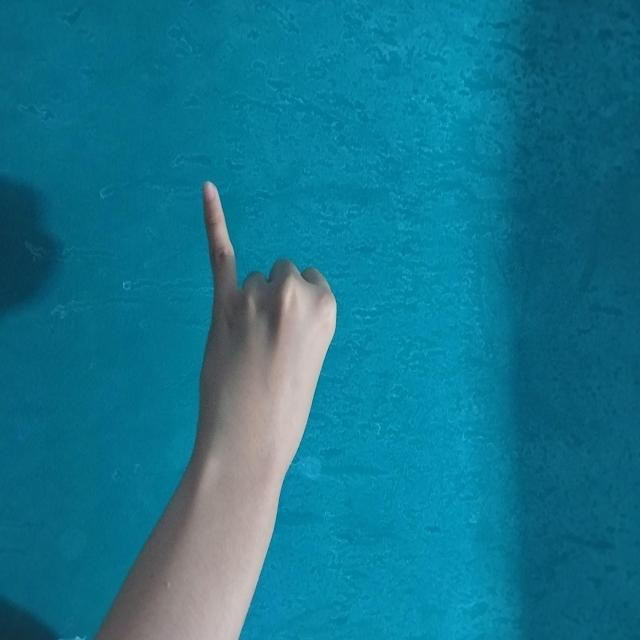J: (129, 132, 369, 495)
